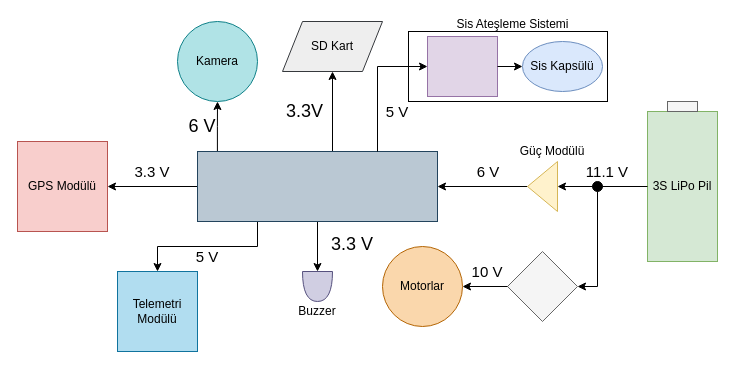
Some shapes in this 735 by 369 pixel diagram are drawn without their labels. The centre of each missing label's shape, as x and y in pixels:
"ESC" belongs at (542,286).
"PIXHAWK PX4" belongs at (317,186).
"Röle" belongs at (462,66).
